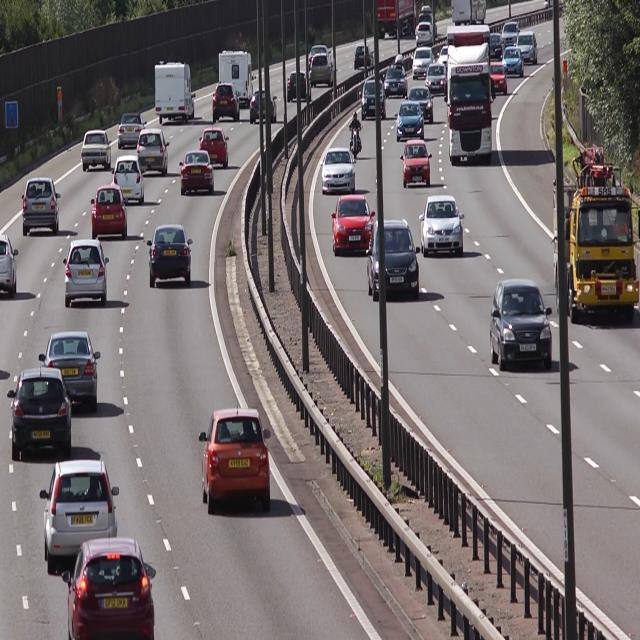Car: (552, 157, 636, 326), (62, 536, 156, 640), (40, 455, 121, 572), (196, 404, 274, 516), (446, 22, 495, 162), (6, 370, 74, 460), (493, 280, 554, 370), (41, 328, 102, 415), (368, 218, 419, 305), (64, 236, 110, 311), (331, 192, 376, 260), (147, 222, 194, 286), (154, 56, 197, 121), (422, 194, 466, 254), (20, 175, 61, 236), (90, 182, 128, 242), (221, 42, 255, 104), (178, 148, 215, 200), (113, 154, 147, 206), (322, 145, 357, 194), (400, 139, 432, 192), (80, 124, 114, 171), (210, 80, 240, 126), (200, 126, 230, 169), (394, 103, 426, 143), (362, 75, 386, 120), (118, 110, 144, 149), (425, 58, 449, 98), (250, 88, 276, 124), (388, 57, 408, 99), (504, 46, 524, 78)
